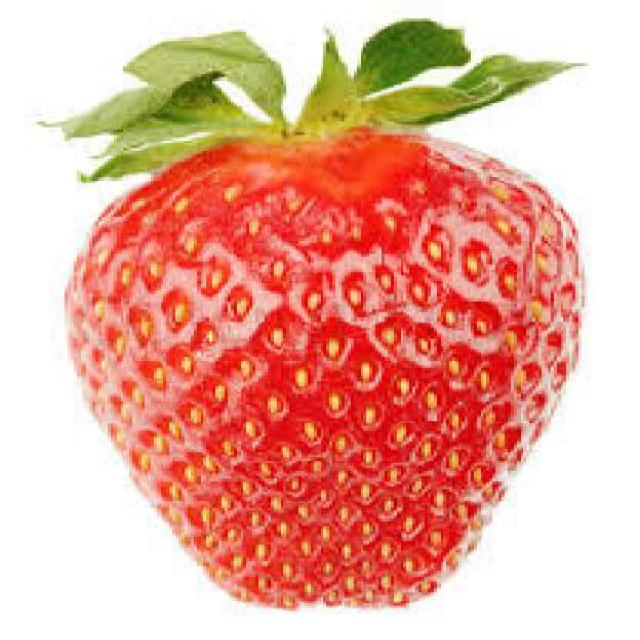BIODEGRADABLE: (62, 18, 586, 612)
